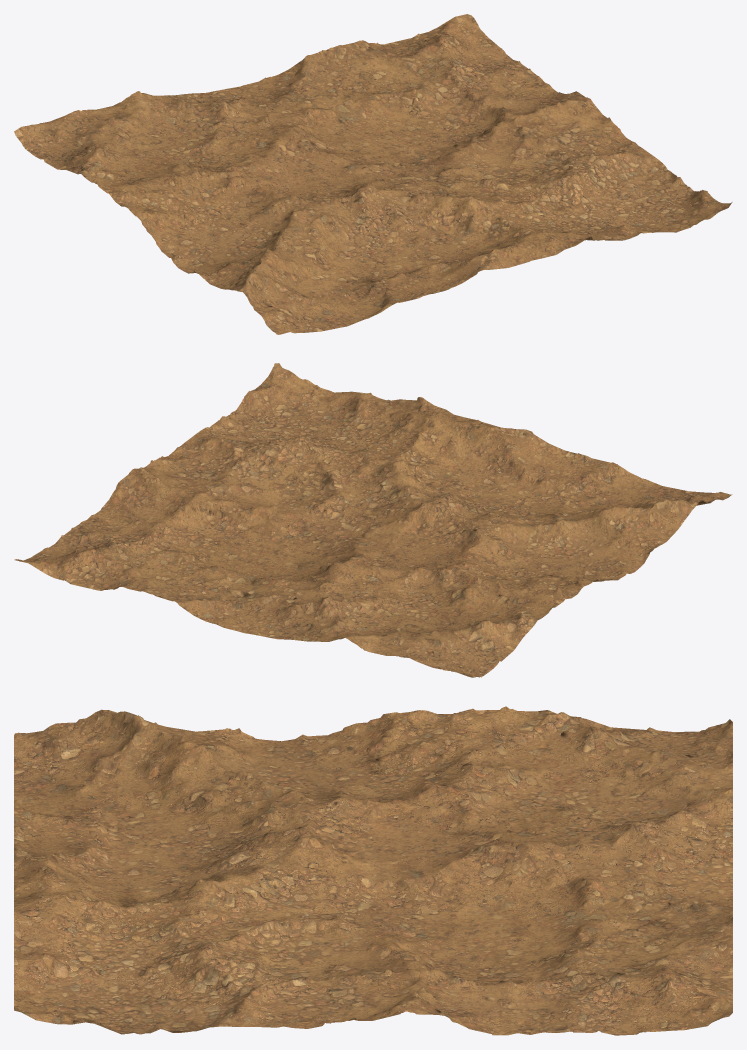
The model's file is Map_StartingTown.fbx.
3 renders of one model, top to bottom at view 1: azimuth 30°, elevation 25°; view 2: azimuth 150°, elevation 25°; view 3: azimuth 270°, elevation 25°, orthographic. The views are drawn at different scales.
Parts seen in each view (by area): view 1: TO14_SM_YOK_BG_Mountain_02.mo; view 2: TO14_SM_YOK_BG_Mountain_02.mo; view 3: TO14_SM_YOK_BG_Mountain_02.mo.
Boxes of the visible parts, x1=… form: TO14_SM_YOK_BG_Mountain_02.mo: x1=14, y1=14, x2=732, y2=334; TO14_SM_YOK_BG_Mountain_02.mo: x1=14, y1=363, x2=732, y2=677; TO14_SM_YOK_BG_Mountain_02.mo: x1=14, y1=706, x2=732, y2=1035.
Size of the model in its own units: 10000 by 672 by 10000.
